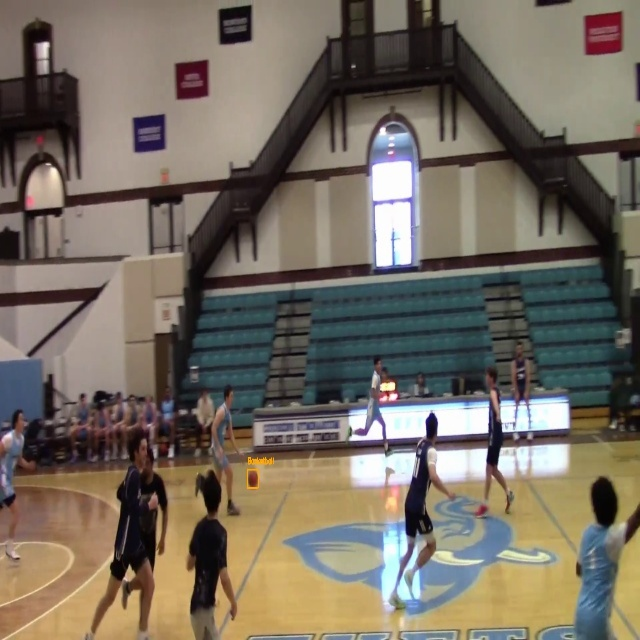Basketball: (248, 470, 258, 488)
